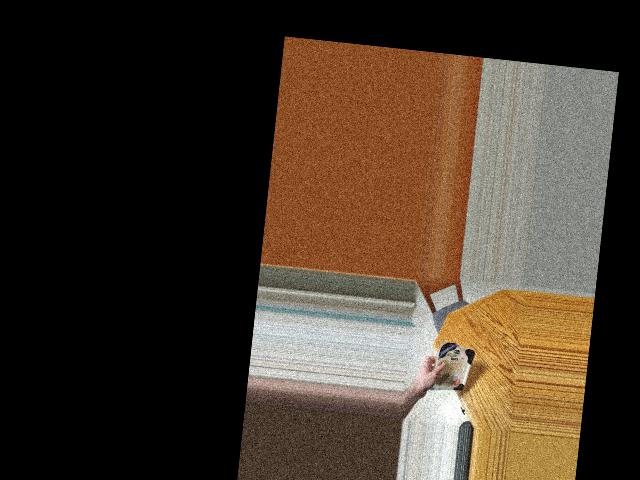cheese: (430, 338, 471, 399)
